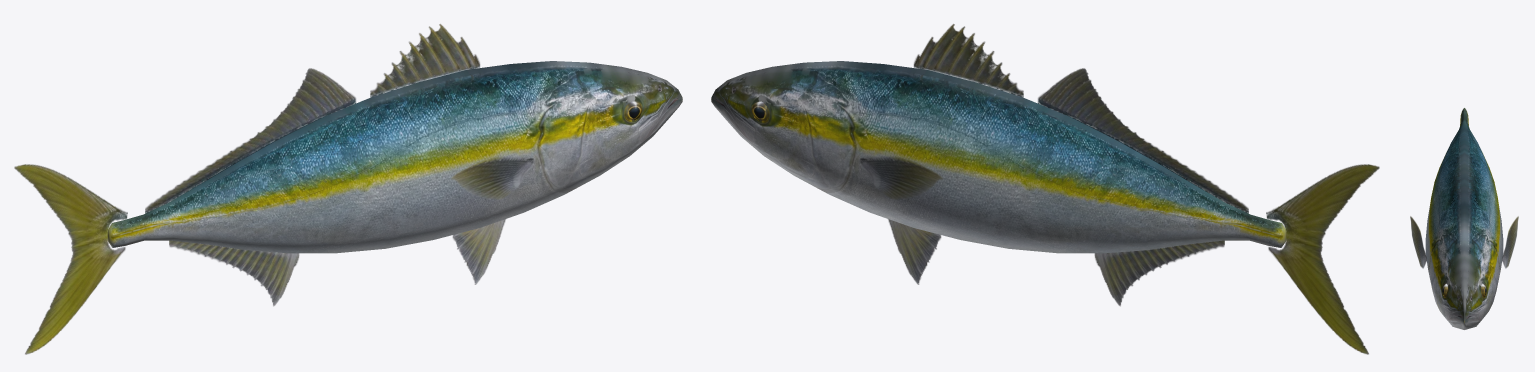
Rendered from buri_lo.glb.
The picture shows the model from 3 angles, left to right: view 1: azimuth 30°, elevation 25°; view 2: azimuth 150°, elevation 25°; view 3: azimuth 270°, elevation 25°; orthographic projection. The views are drawn at different scales.
Visible parts, largest first — view 1: buri; view 2: buri; view 3: buri.
Part boxes in pixels (left/top/right/bottom): buri: left=14, top=24, right=682, bottom=354; buri: left=711, top=24, right=1379, bottom=354; buri: left=1410, top=108, right=1518, bottom=329.
Bounding box in the file's own units: 0.8023 × 0.3092 × 0.1601.
Materials: 1 (1 with a texture image).
